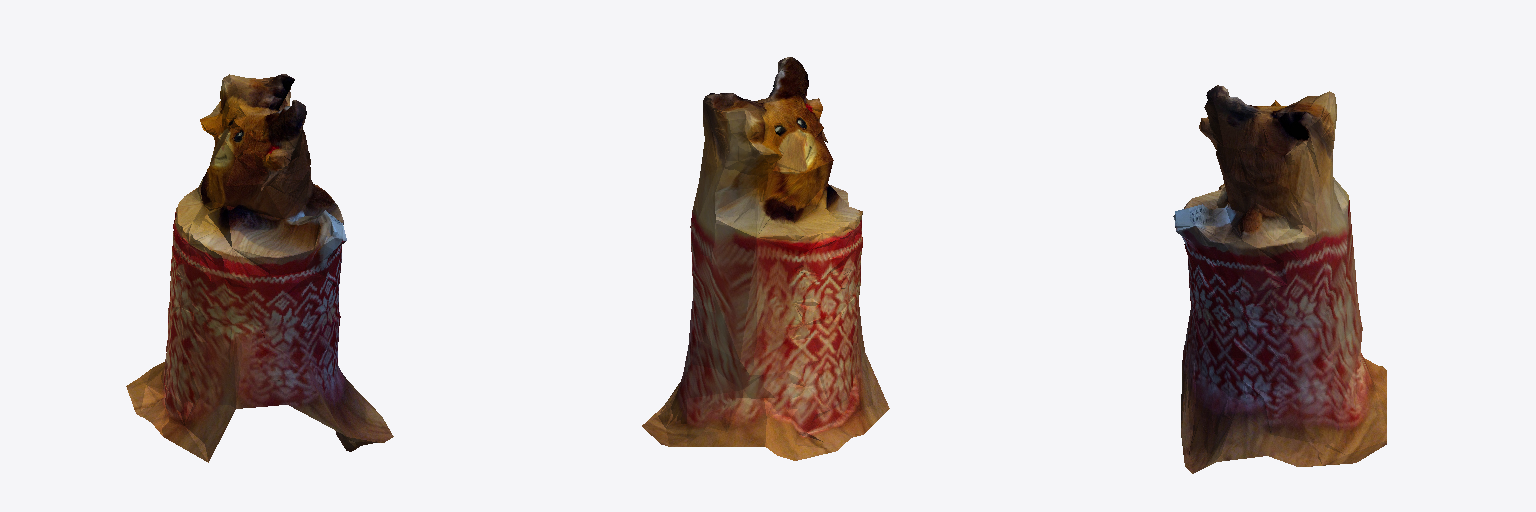
3 renders of one model, left to right at view 1: azimuth 30°, elevation 25°; view 2: azimuth 150°, elevation 25°; view 3: azimuth 270°, elevation 25°, orthographic.
Visible parts, largest first — view 1: 853db56b-40ed-4d8c-9f29-2b24ff508c33_0; view 2: 853db56b-40ed-4d8c-9f29-2b24ff508c33_0; view 3: 853db56b-40ed-4d8c-9f29-2b24ff508c33_0.
Part boxes in pixels (left/top/right/bottom): 853db56b-40ed-4d8c-9f29-2b24ff508c33_0: left=126, top=74, right=393, bottom=462; 853db56b-40ed-4d8c-9f29-2b24ff508c33_0: left=642, top=57, right=889, bottom=460; 853db56b-40ed-4d8c-9f29-2b24ff508c33_0: left=1173, top=85, right=1386, bottom=473.
Size of the model in its own units: 0.5436 by 0.9624 by 0.5338.
1 materials, 1 textured.